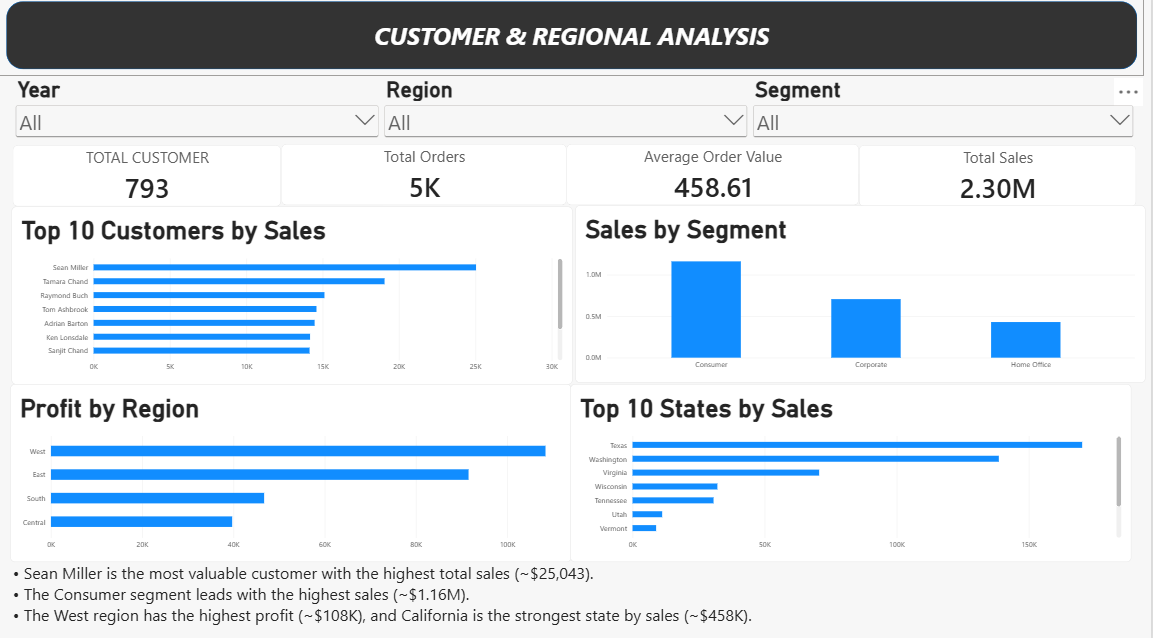

Layout of this report page (visuals, bound fields, positions):
{"tool":"powerbi","page":{"name":"Customer Analysis","canvas":[1920,1080],"ordinal":2},"visuals":[{"type":"shape","box":[0,0,1909.2,137.5],"z":0},{"type":"slicer","fields":{"Values":["Superstore_Sales_Cleaned.Order Date.Variation.Date Hierarchy.Year"]},"box":[23.8,138.5,614.6,114.7],"z":1000},{"type":"slicer","fields":{"Values":["Superstore_Sales_Cleaned.Region"]},"box":[637.5,137.5,614.6,114.7],"z":2000},{"type":"slicer","fields":{"Values":["Superstore_Sales_Cleaned.Segment"]},"box":[1252.1,137.5,643.8,114.6],"z":3000},{"type":"cardVisual","fields":{"Data":["Superstore_Sales_Cleaned.TOTAL CUSTOMER"]},"box":[22.9,252.1,447.9,102.1],"z":3001},{"type":"cardVisual","fields":{"Data":["Superstore_Sales_Cleaned.Total Orders"]},"box":[470.8,250,475,102.1],"z":3002},{"type":"cardVisual","fields":{"Data":["Superstore_Sales_Cleaned.Average Order Value"]},"box":[945.8,250,487.5,102.1],"z":3003},{"type":"cardVisual","fields":{"Data":["Superstore_Sales_Cleaned.Total Sales"]},"box":[1433.3,252.1,462.5,102.1],"z":3004},{"type":"barChart","title":" Top 10 Customers by Sales","fields":{"Category":["Superstore_Sales_Cleaned.Customer Name"],"Y":["Sum(Superstore_Sales_Cleaned.Sales)"]},"box":[21.8,354.5,935.6,296.8],"z":3005},{"type":"columnChart","title":" Sales by Segment","fields":{"Category":["Superstore_Sales_Cleaned.Segment"],"Y":["Sum(Superstore_Sales_Cleaned.Sales)"]},"box":[960.4,352.1,950,295.8],"z":3006},{"type":"clusteredBarChart","title":" Profit by Region ","fields":{"Category":["Superstore_Sales_Cleaned.Region"],"Y":["Sum(Superstore_Sales_Cleaned.Profit)"]},"box":[18.8,650,935.6,296.8],"z":3007},{"type":"clusteredBarChart","title":"Top 10 States by Sales","fields":{"Category":["Superstore_Sales_Cleaned.State"],"Y":["Sum(Superstore_Sales_Cleaned.Sales)"]},"box":[952.1,650,935.6,296.8],"z":3008},{"type":"textbox","box":[22.9,945.8,1864.6,133.3],"z":3009}]}

Visuals, with their boxes in screenshot pixels (x1, y1, x2, y2), scaled from the page's 1920x1080 canvas onto the 1153x638 screenshot:
shape: (x1=0, y1=0, x2=1147, y2=81)
slicer - Superstore_Sales_Cleaned.Order Date.Variation.Date Hierarchy.Year: (x1=14, y1=82, x2=383, y2=150)
slicer - Superstore_Sales_Cleaned.Region: (x1=383, y1=81, x2=752, y2=149)
slicer - Superstore_Sales_Cleaned.Segment: (x1=752, y1=81, x2=1139, y2=149)
cardVisual - Superstore_Sales_Cleaned.TOTAL CUSTOMER: (x1=14, y1=149, x2=283, y2=209)
cardVisual - Superstore_Sales_Cleaned.Total Orders: (x1=283, y1=148, x2=568, y2=208)
cardVisual - Superstore_Sales_Cleaned.Average Order Value: (x1=568, y1=148, x2=861, y2=208)
cardVisual - Superstore_Sales_Cleaned.Total Sales: (x1=861, y1=149, x2=1138, y2=209)
" Top 10 Customers by Sales" barChart: (x1=13, y1=209, x2=575, y2=385)
" Sales by Segment" columnChart: (x1=577, y1=208, x2=1147, y2=383)
" Profit by Region " clusteredBarChart: (x1=11, y1=384, x2=573, y2=559)
"Top 10 States by Sales" clusteredBarChart: (x1=572, y1=384, x2=1134, y2=559)
textbox: (x1=14, y1=559, x2=1133, y2=637)
